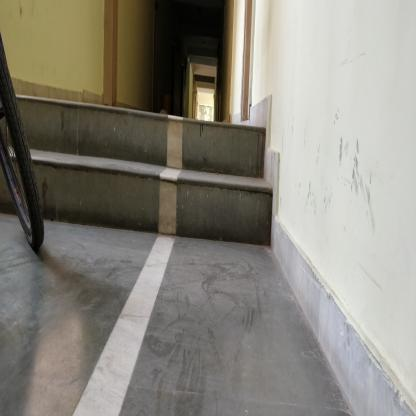stairs: (52, 112, 266, 246)
